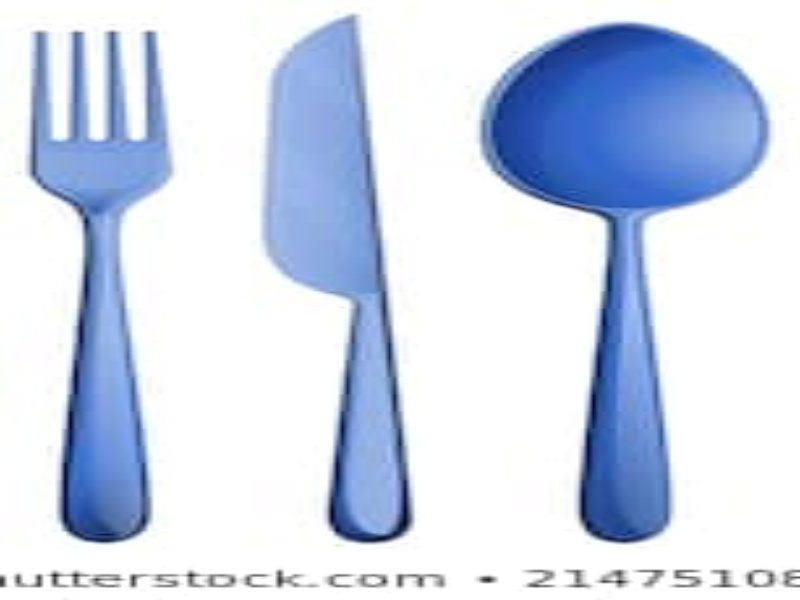plastic-silverware: (473, 16, 774, 542), (258, 10, 424, 543), (23, 18, 182, 542)
